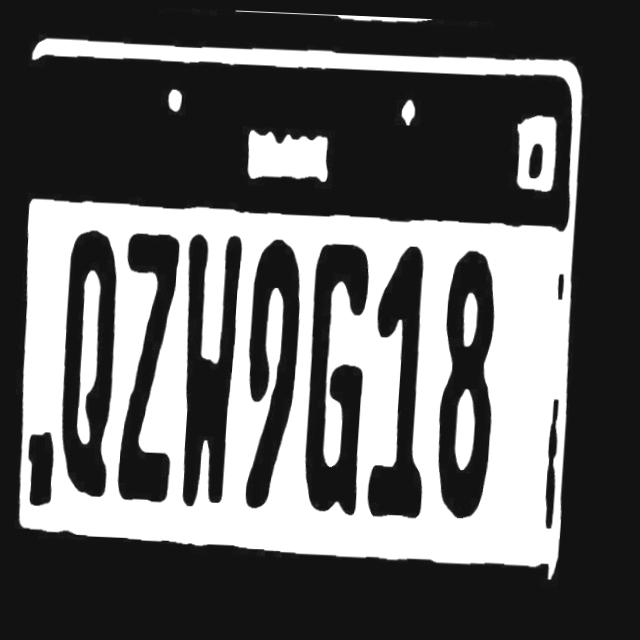1: (368, 234, 444, 526)
8: (437, 239, 507, 523)
9: (239, 227, 309, 509)
g: (306, 237, 377, 516)
q: (56, 213, 128, 502)
w: (180, 220, 249, 509)
z: (114, 213, 190, 517)
